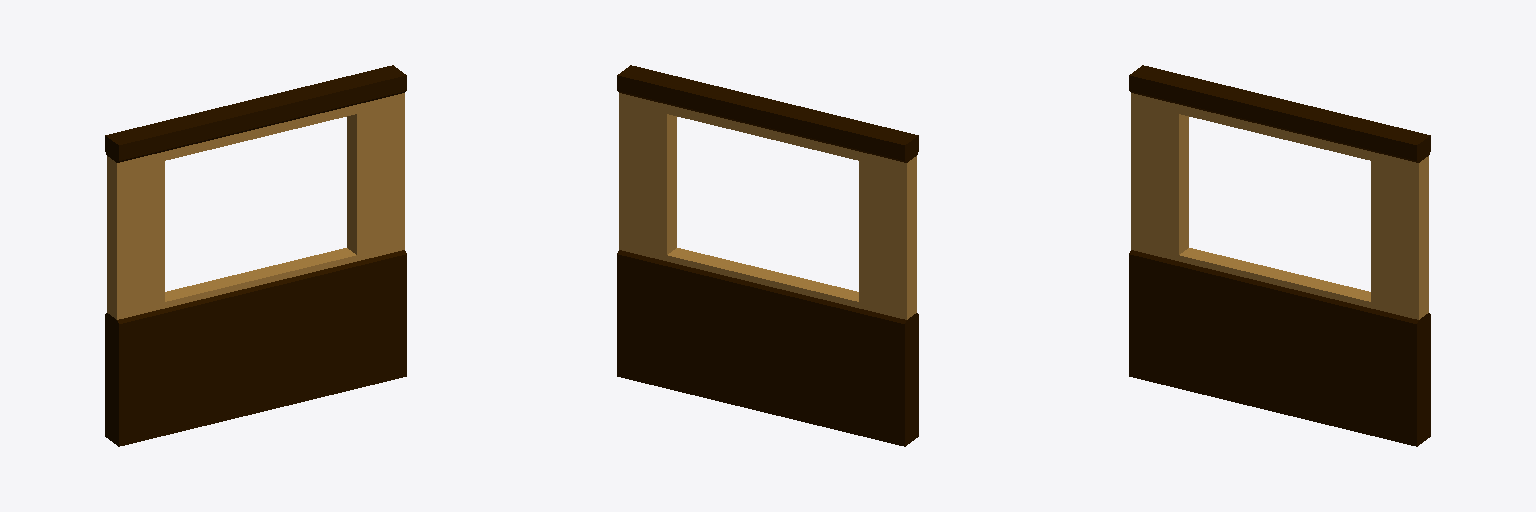
The model's file is Classic_WallWindowFrame_02_snaps001.obj.
3 views of the same model, side by side, from view 1: azimuth 30°, elevation 25°; view 2: azimuth 150°, elevation 25°; view 3: azimuth 330°, elevation 25° (orthographic).
Visible parts, largest first — view 1: Classic_WallWindowFrame_02_snaps001; view 2: Classic_WallWindowFrame_02_snaps001; view 3: Classic_WallWindowFrame_02_snaps001.
Part boxes in pixels (bbox=[...]): Classic_WallWindowFrame_02_snaps001: bbox=[105, 65, 406, 446]; Classic_WallWindowFrame_02_snaps001: bbox=[617, 65, 918, 446]; Classic_WallWindowFrame_02_snaps001: bbox=[1129, 65, 1430, 446].
Size of the model in its own units: 3 by 3 by 0.25.